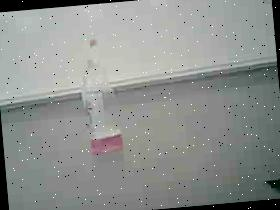hazard: (70, 34, 130, 158)
